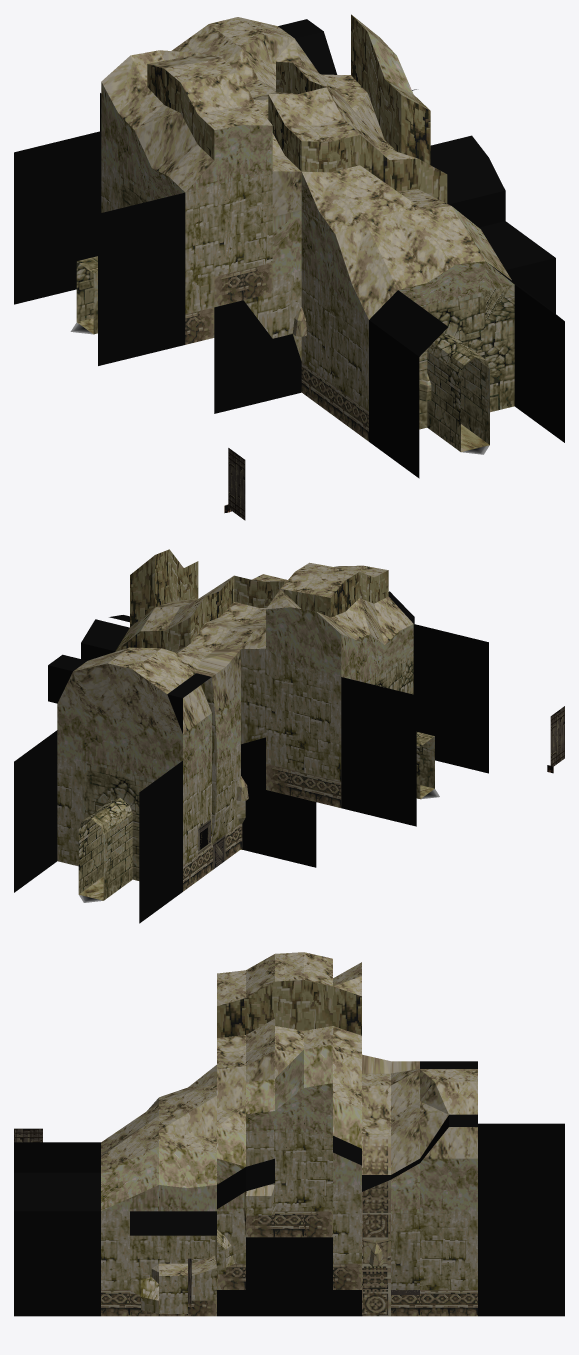
The model's file is MAP022.obj.
3 renders of one model, top to bottom at view 1: azimuth 30°, elevation 25°; view 2: azimuth 150°, elevation 25°; view 3: azimuth 270°, elevation 25°, orthographic. The views are drawn at different scales.
Parts seen in each view (by area): view 1: mesh_102, mesh_56, mesh_101, mesh_57, mesh_121, mesh_36, mesh_99, mesh_97, mesh_31, mesh_27, mesh_34, mesh_35 (+15 smaller); view 2: mesh_102, mesh_98, mesh_42, mesh_56, mesh_57, mesh_16, mesh_97, mesh_17, mesh_43, mesh_18, mesh_45, mesh_121 (+15 smaller); view 3: mesh_22, mesh_56, mesh_98, mesh_101, mesh_23, mesh_121, mesh_71, mesh_21, mesh_57, mesh_122, mesh_55, mesh_99 (+9 smaller).
Boxes of the visible parts, box(x1,y1,x2,y2) form: mesh_102: box(14, 131, 185, 365); mesh_56: box(101, 17, 484, 319); mesh_101: box(369, 263, 564, 478); mesh_57: box(147, 14, 447, 203); mesh_121: box(148, 53, 417, 234); mesh_36: box(185, 171, 272, 314); mesh_99: box(430, 135, 555, 313); mesh_97: box(214, 300, 301, 413); mesh_31: box(301, 271, 368, 410); mesh_27: box(419, 291, 489, 429); mesh_34: box(185, 171, 301, 344); mesh_35: box(185, 125, 300, 231); mesh_102: box(341, 624, 488, 826); mesh_98: box(14, 730, 182, 923); mesh_42: box(241, 648, 341, 781); mesh_56: box(73, 589, 413, 694); mesh_57: box(115, 549, 388, 651); mesh_16: box(57, 703, 182, 779); mesh_97: box(241, 737, 316, 867); mesh_17: box(57, 663, 182, 734); mesh_43: box(266, 607, 341, 676); mesh_18: box(78, 762, 155, 880); mesh_45: box(183, 677, 240, 865); mesh_121: box(141, 562, 388, 631); mesh_22: box(101, 1132, 477, 1289); mesh_56: box(101, 962, 477, 1174); mesh_98: box(478, 1123, 564, 1316); mesh_101: box(14, 1142, 100, 1316); mesh_23: box(101, 1127, 477, 1316); mesh_121: box(159, 952, 361, 1134); mesh_71: box(217, 1237, 361, 1316); mesh_21: box(101, 1152, 477, 1211); mesh_57: box(217, 980, 361, 1037); mesh_122: box(217, 1044, 361, 1166); mesh_55: box(101, 1146, 216, 1210); mesh_99: box(130, 1158, 274, 1235).
Bounding box in the file's own units: 179 × 131 × 243.
21 materials, 21 textured.
